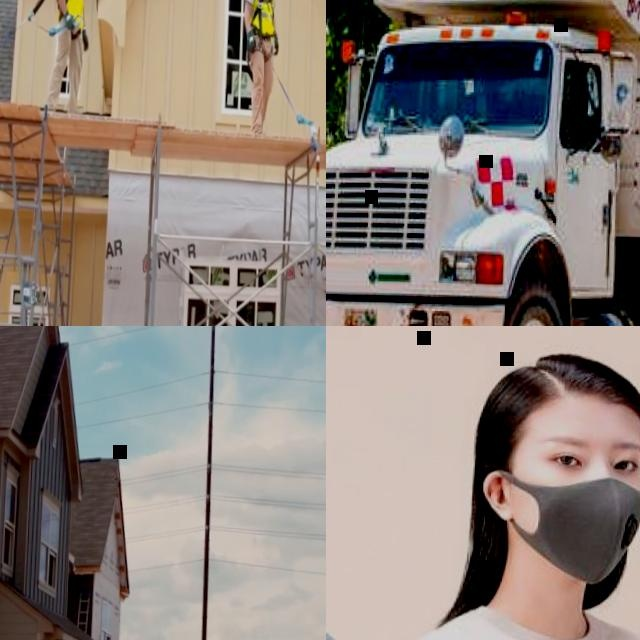Mask: (481, 467, 640, 589)
NO-Hardhat: (476, 342, 640, 434)
Person: (359, 337, 640, 640), (326, 326, 430, 640), (240, 0, 282, 135), (46, 0, 93, 114)
Safety Vest: (249, 0, 276, 35), (56, 0, 86, 28)
machinery: (326, 0, 640, 326)
